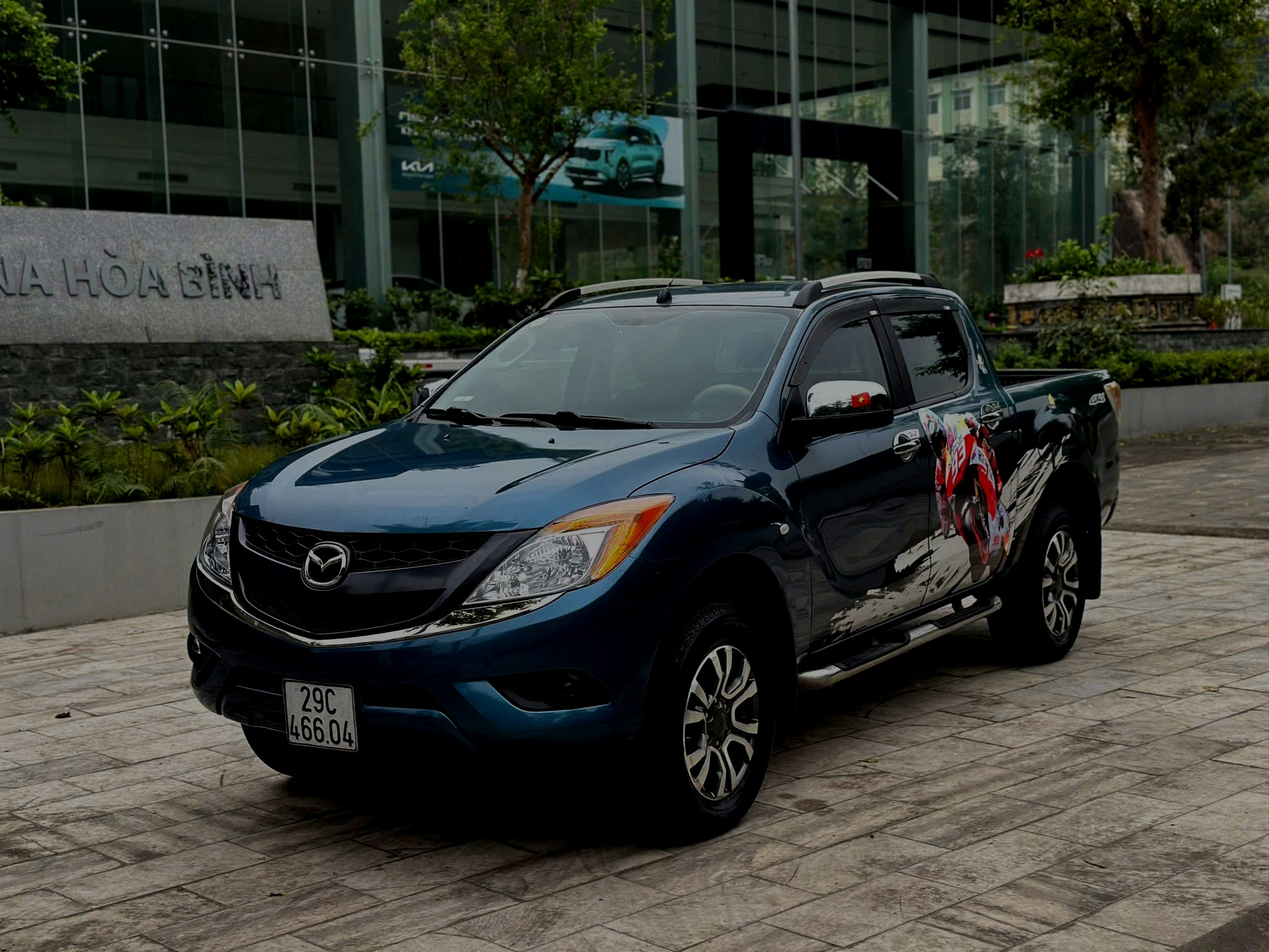Bien-so: (284, 678, 362, 751)
